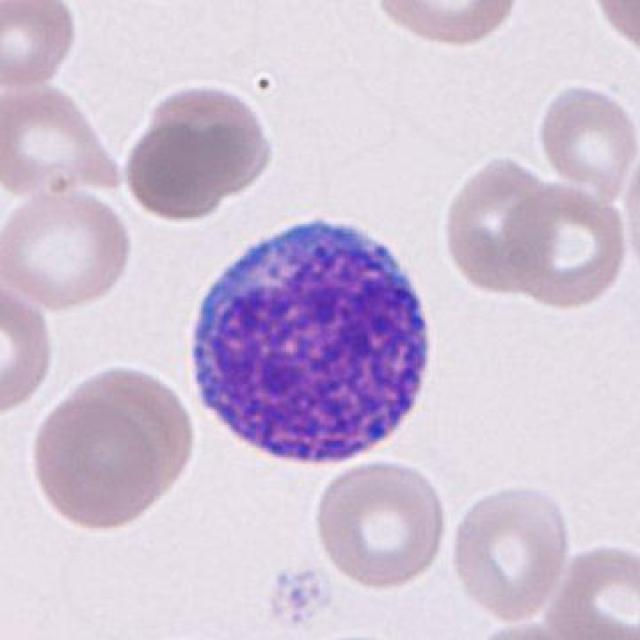RBC: (487, 0, 638, 210), (117, 80, 274, 224), (44, 357, 201, 498), (27, 391, 165, 535), (308, 455, 452, 590), (446, 480, 576, 626), (0, 185, 139, 313), (498, 183, 633, 313), (441, 149, 556, 299), (0, 77, 121, 199), (532, 78, 638, 204), (535, 537, 640, 640), (366, 0, 523, 52), (2, 279, 57, 420), (0, 0, 80, 89), (586, 0, 640, 62), (618, 140, 640, 286), (455, 617, 589, 638)
